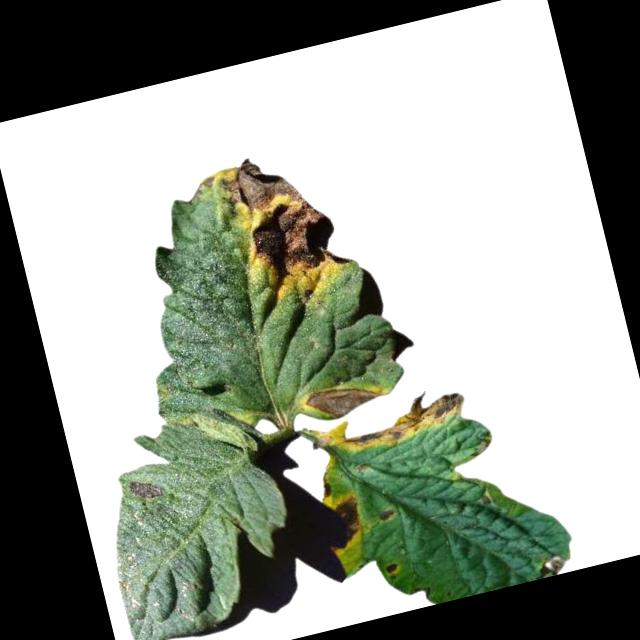Early_blight: (218, 143, 346, 295), (334, 383, 471, 459), (300, 376, 381, 421), (334, 494, 367, 535), (127, 476, 167, 504), (374, 507, 398, 524), (382, 563, 402, 579)
